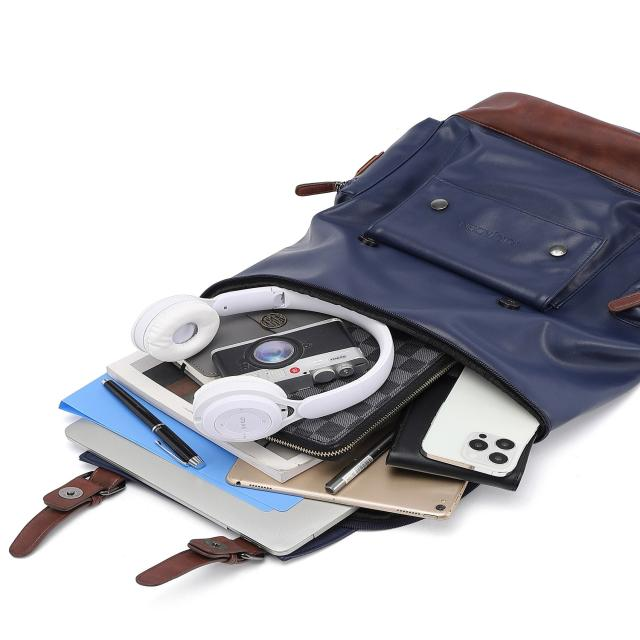backpack: (1, 85, 640, 595)
